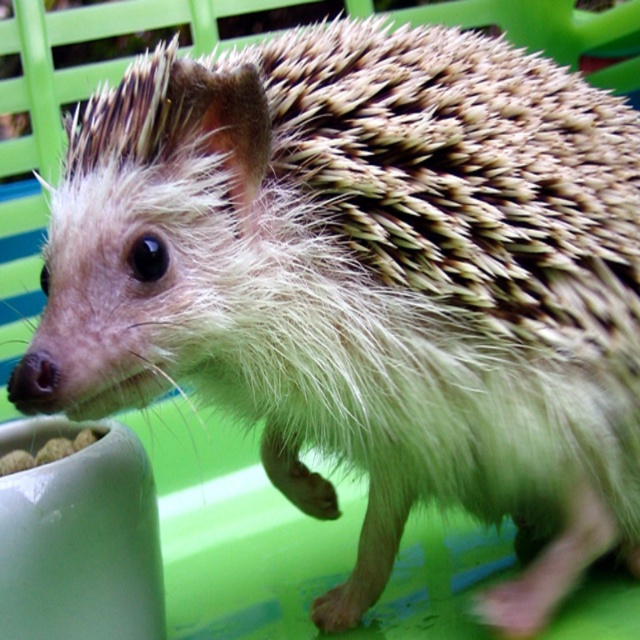Hedgehog: (0, 7, 639, 639)
